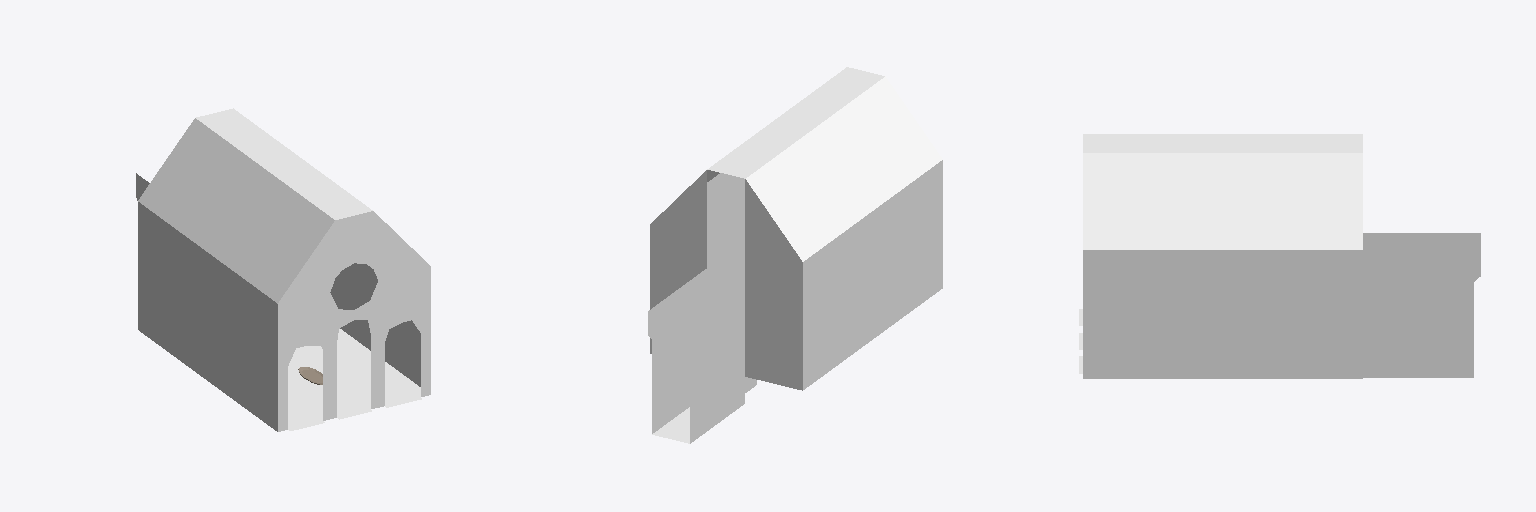
The model's file is Castle Interior.obj.
3 renders of one model, left to right at view 1: azimuth 30°, elevation 25°; view 2: azimuth 150°, elevation 25°; view 3: azimuth 270°, elevation 25°, orthographic.
Parts seen in each view (by area): view 1: Castle Interior; view 2: Castle Interior; view 3: Castle Interior.
Part boxes in pixels (x1,y1,x2,y2): Castle Interior: (136,108,430,431); Castle Interior: (648,67,942,443); Castle Interior: (1079,134,1480,378).
Size of the model in its own units: 24 by 33.62 by 54.62.